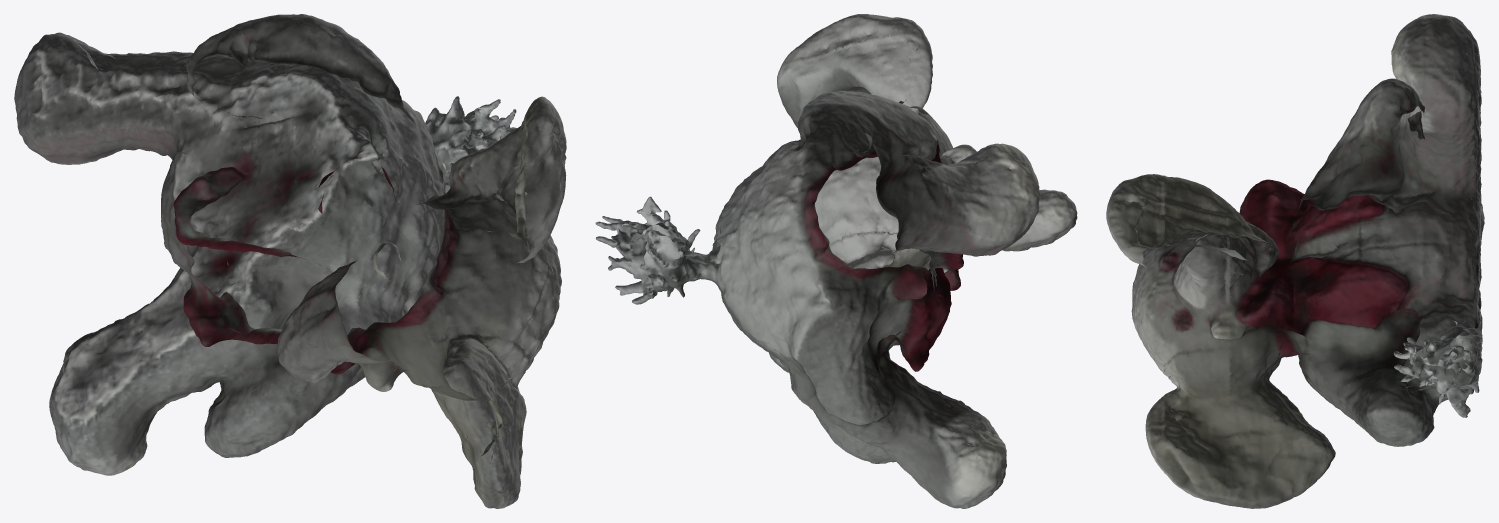
The model's file is elephant.glb.
3 renders of one model, left to right at view 1: azimuth 30°, elevation 25°; view 2: azimuth 150°, elevation 25°; view 3: azimuth 270°, elevation 25°, orthographic. The views are drawn at different scales.
Size of the model in its own units: 1 by 0.8334 by 0.7818.
